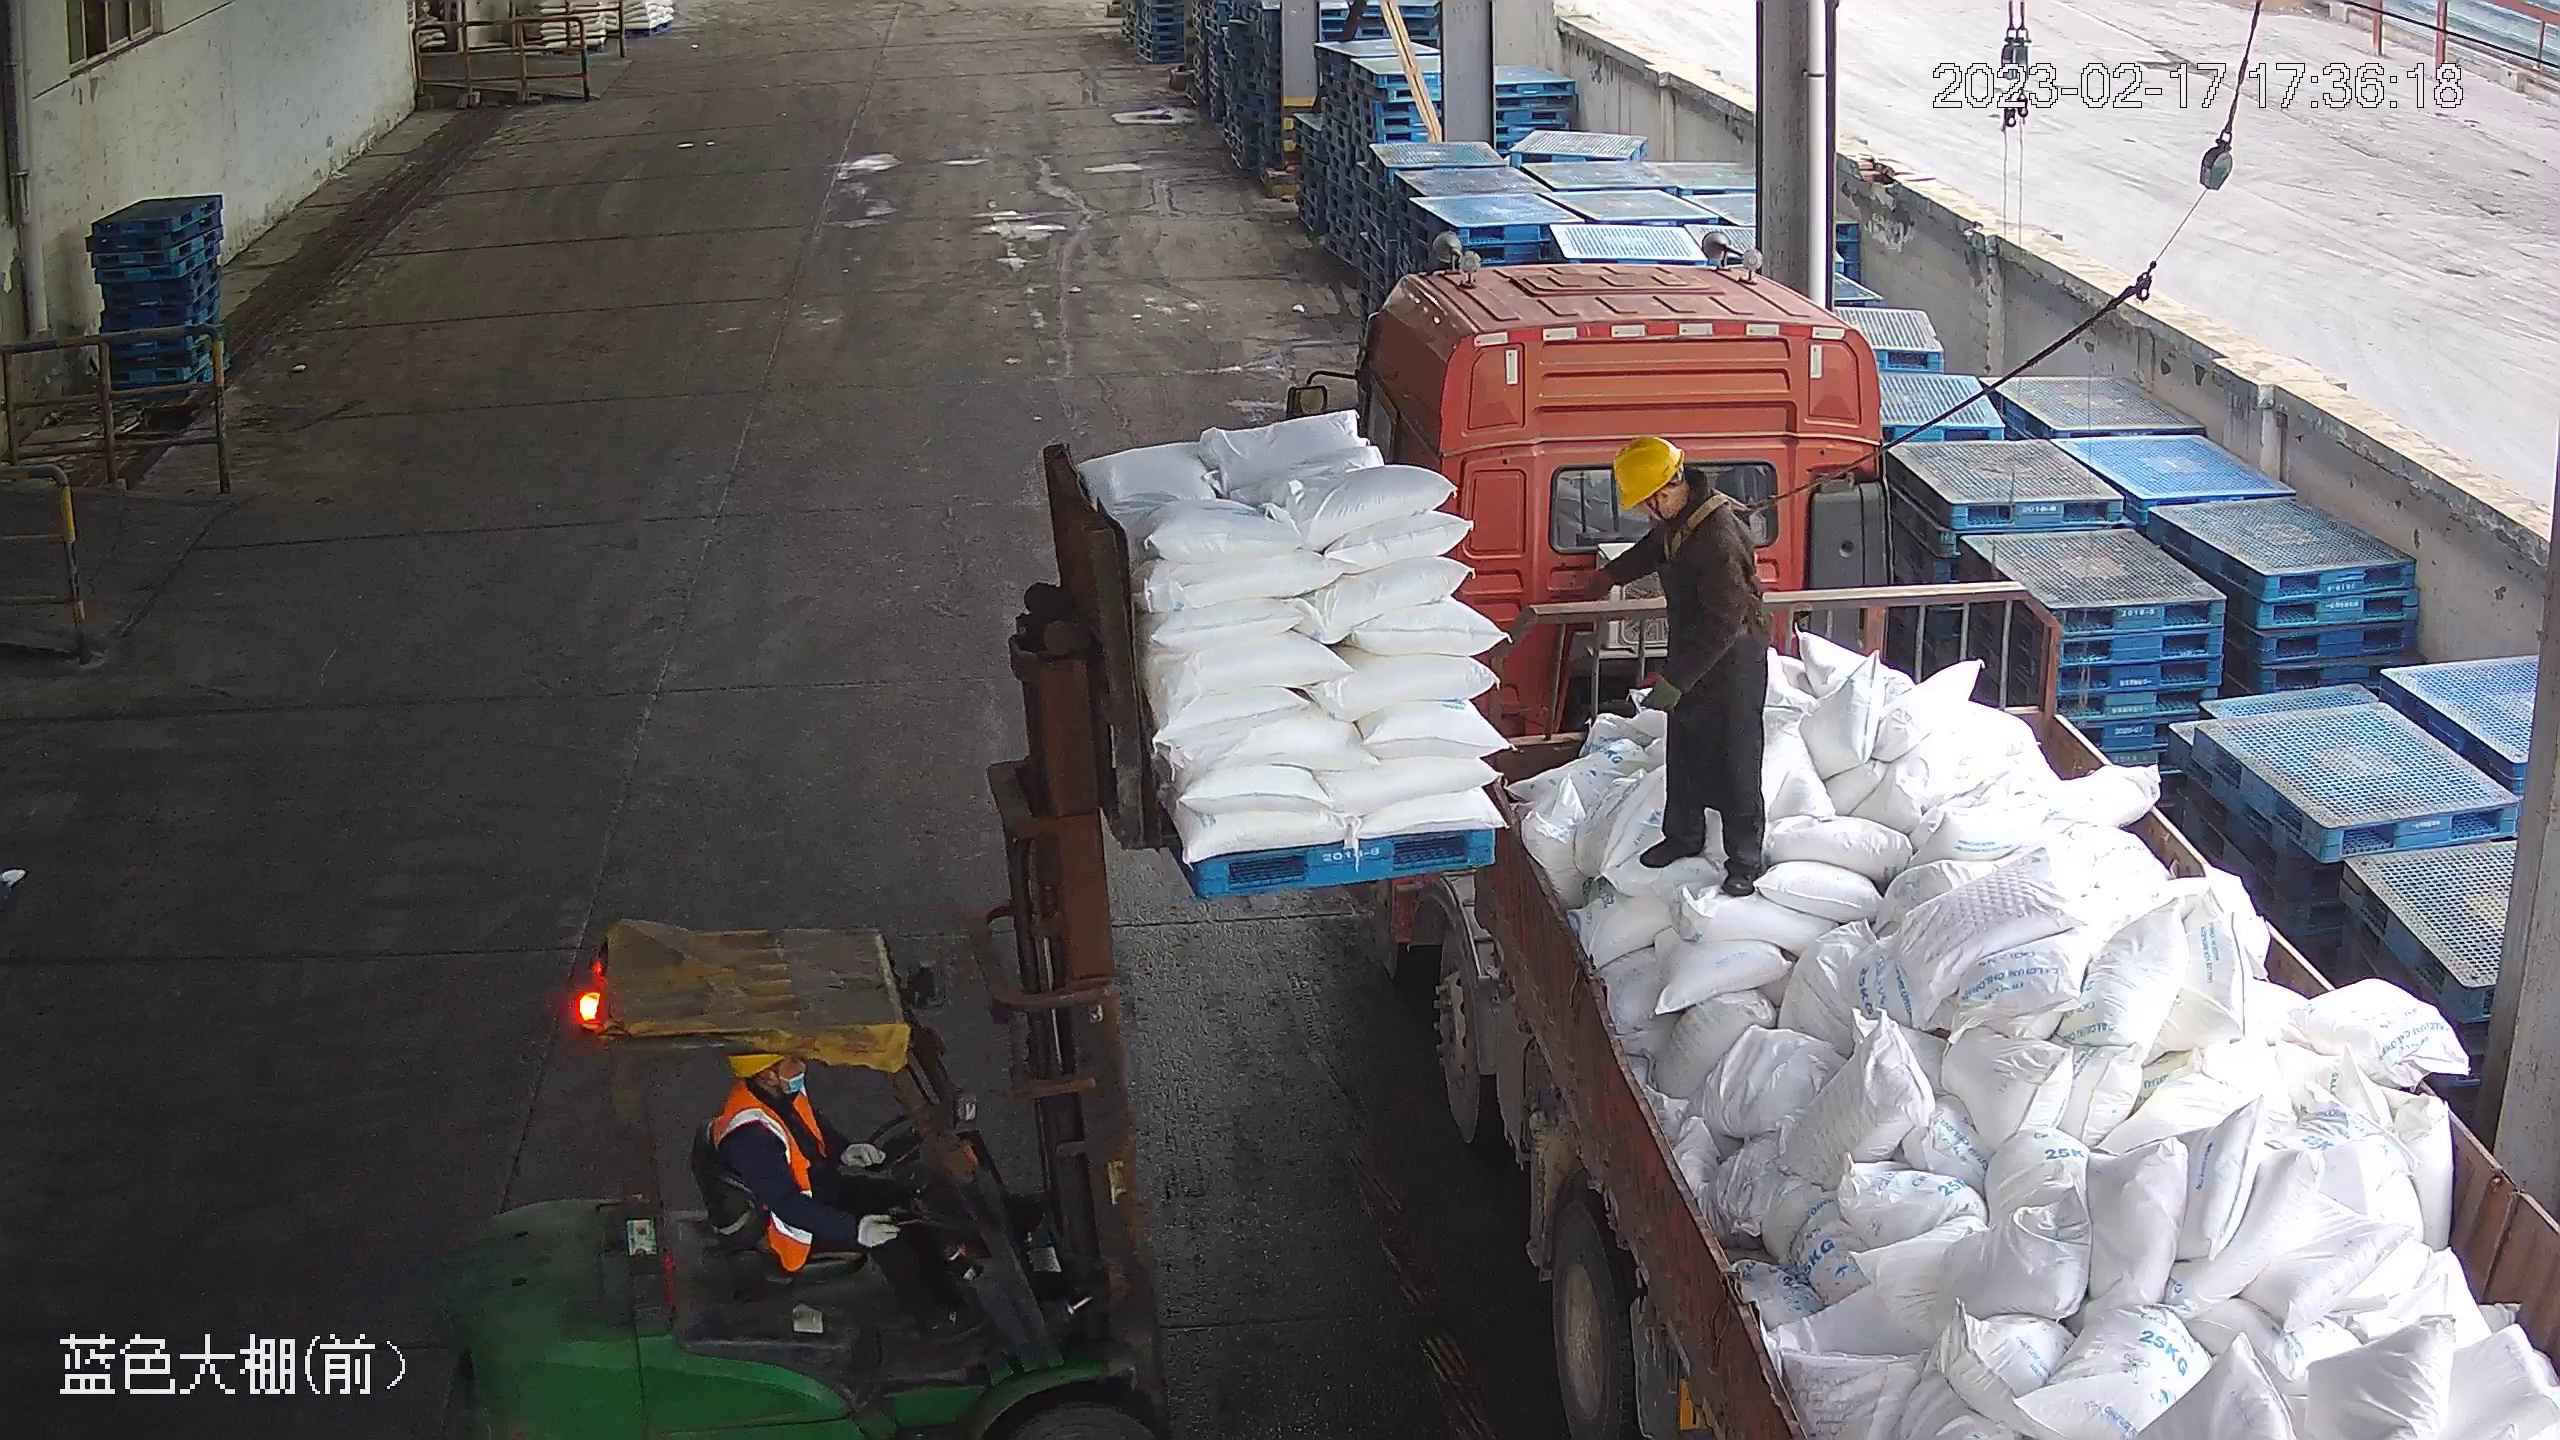belt: (1660, 490, 1772, 568)
head: (1596, 437, 1751, 591)
helmet: (1610, 434, 1687, 510)
people: (698, 1047, 978, 1357), (1605, 439, 1767, 901)
truck: (1276, 254, 2560, 1440)
